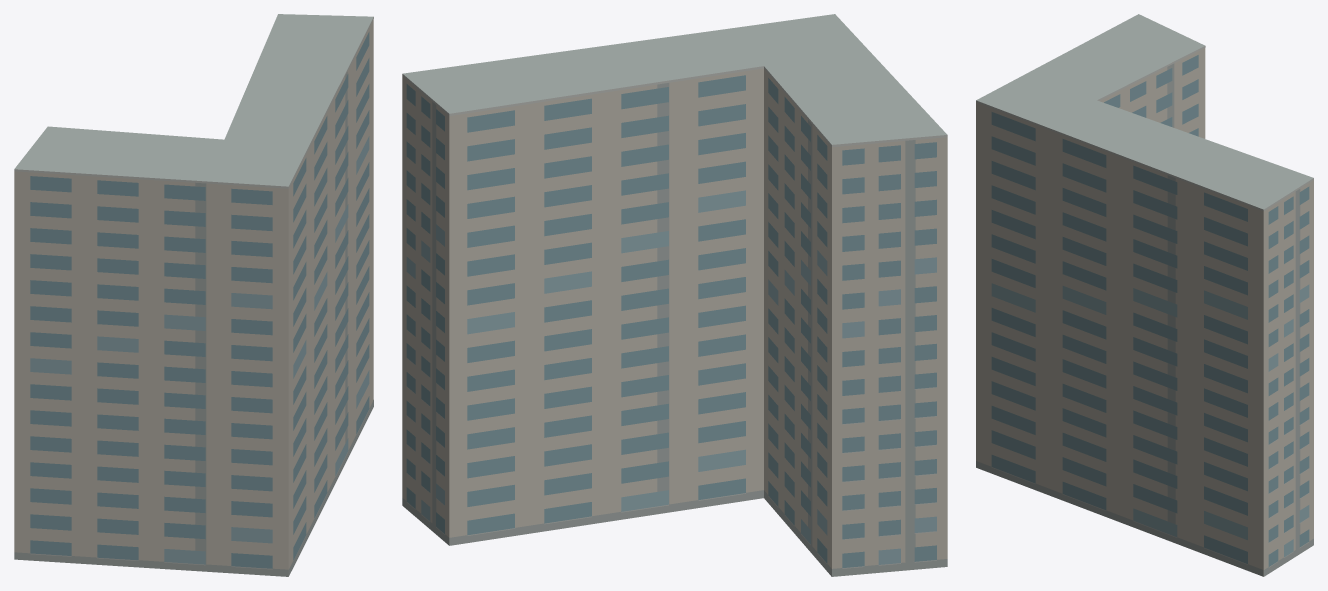
Rendered from residential-b811595b-6356-4715-a099-16f0b12843a2.glb.
3 renders of one model, left to right at view 1: azimuth 30°, elevation 25°; view 2: azimuth 150°, elevation 25°; view 3: azimuth 270°, elevation 25°, orthographic. The views are drawn at different scales.
Parts seen in each view (by area): view 1: residential-b811595b-6356-4715-a099-16f0b12843a2.tmp; view 2: residential-b811595b-6356-4715-a099-16f0b12843a2.tmp; view 3: residential-b811595b-6356-4715-a099-16f0b12843a2.tmp.
Part boxes in pixels (box(x1,y1,x2,y2)): residential-b811595b-6356-4715-a099-16f0b12843a2.tmp: box(14, 14, 373, 576); residential-b811595b-6356-4715-a099-16f0b12843a2.tmp: box(402, 14, 947, 576); residential-b811595b-6356-4715-a099-16f0b12843a2.tmp: box(976, 14, 1313, 576).
Bounding box in the file's own units: 52.55 × 46 × 38.36.
